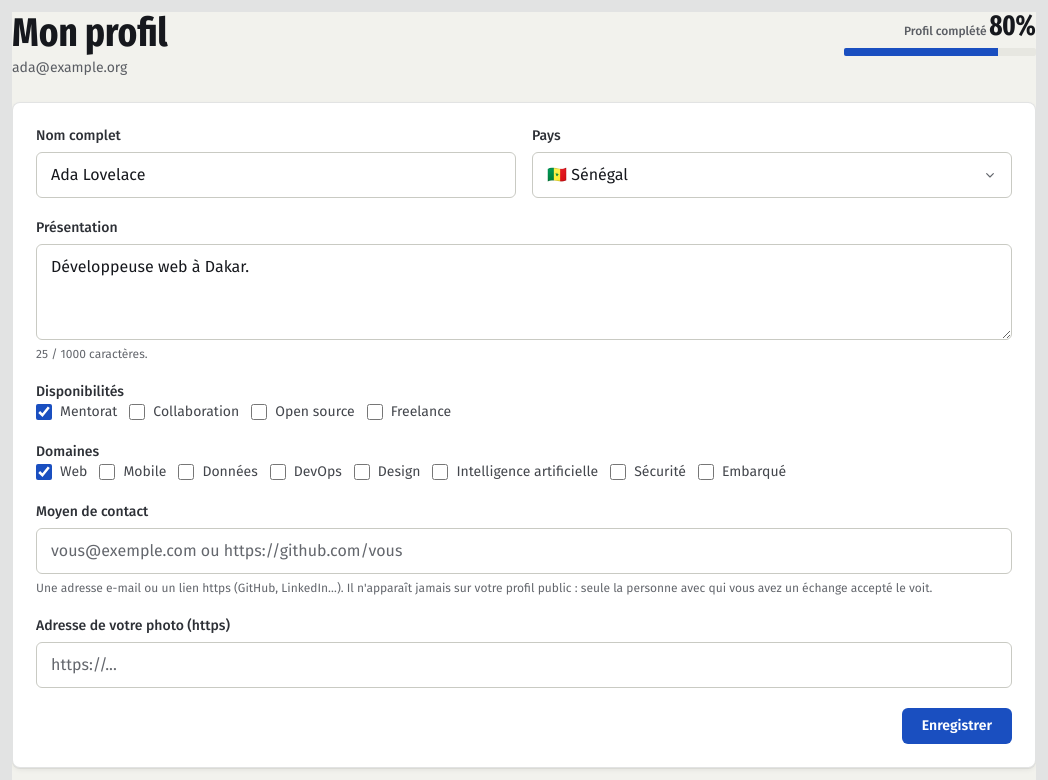
Test case: mon profil › affiche les erreurs du serveur champ par champ
The image size is (1048, 780).
Expected: the field showing "Ada Lovelace" is shown, [36,152,516,198]
Click the button "Enregistrer". click: {"x": 957, "y": 726}
box: [902,708,1012,744]
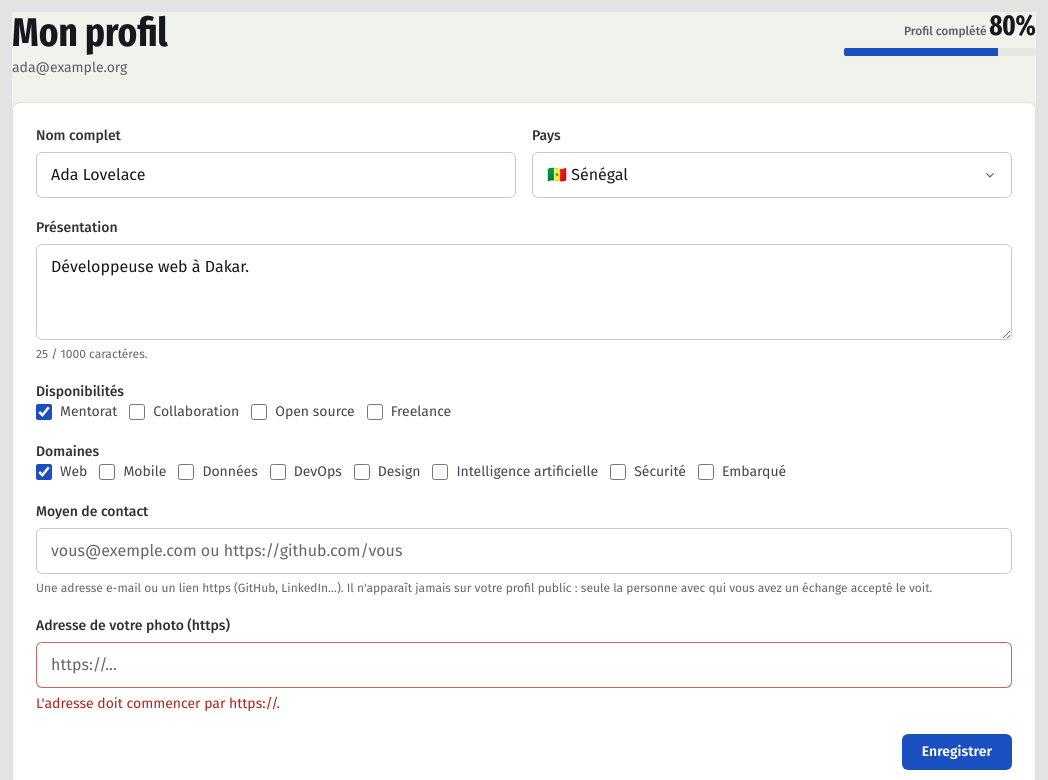
Expected: the text "L'adresse doit commencer par https://." is shown, [36,695,280,712]
